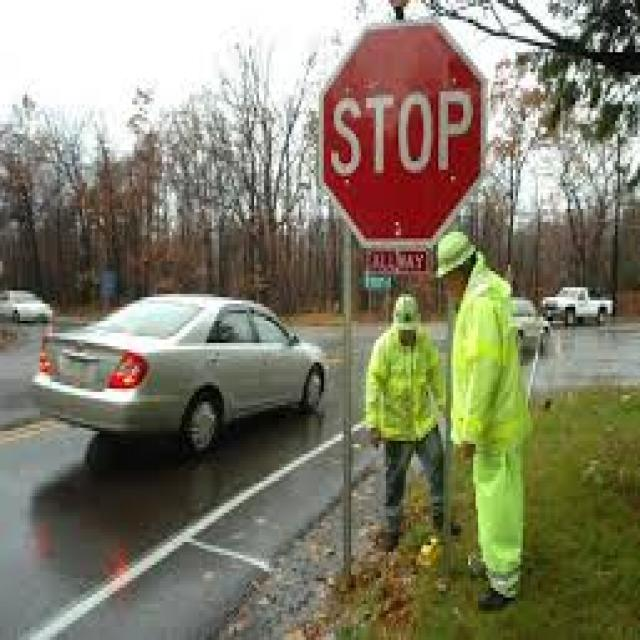stop-sign: (284, 10, 526, 244)
